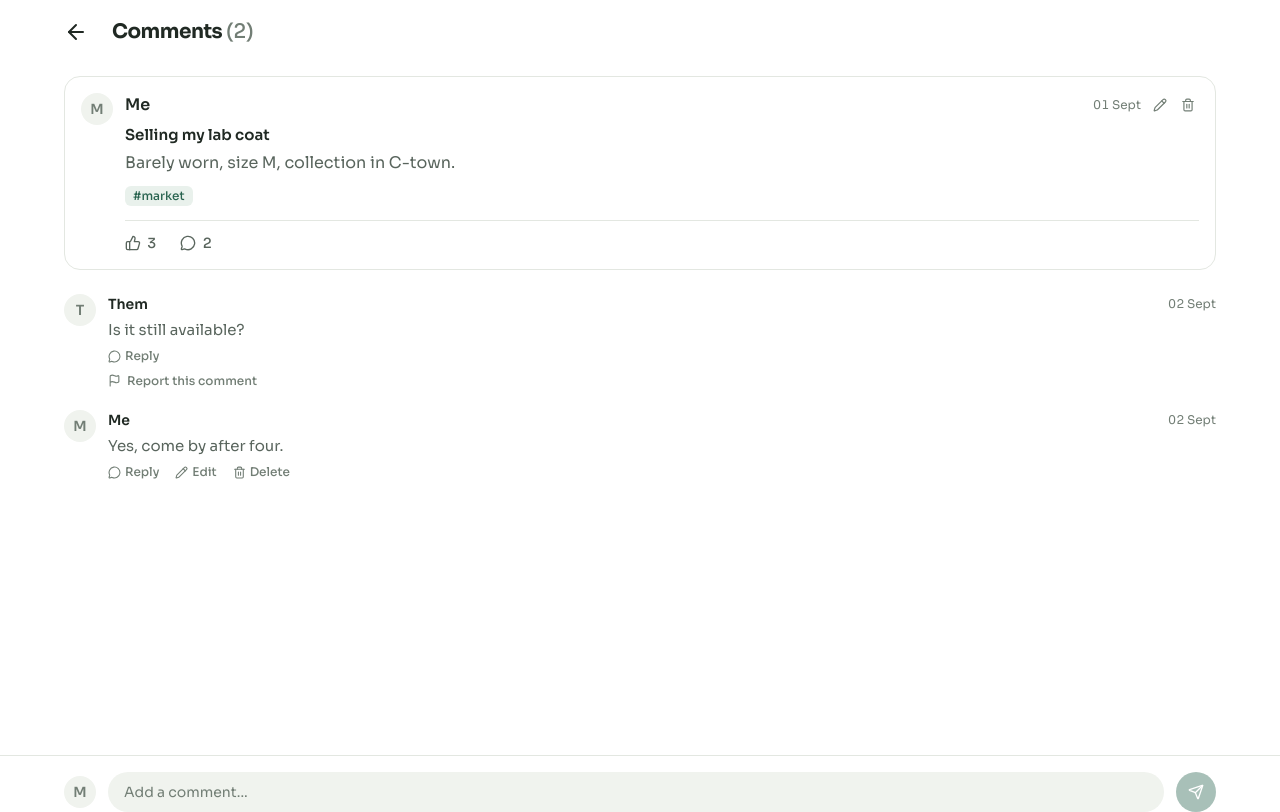
Test: PostComments › saves an edited comment and refetches the thread
The width and height of the screenshot is (1280, 812).
Click the button with aria-label "Edit your comment" at (196, 472), box [175,464,217,480]
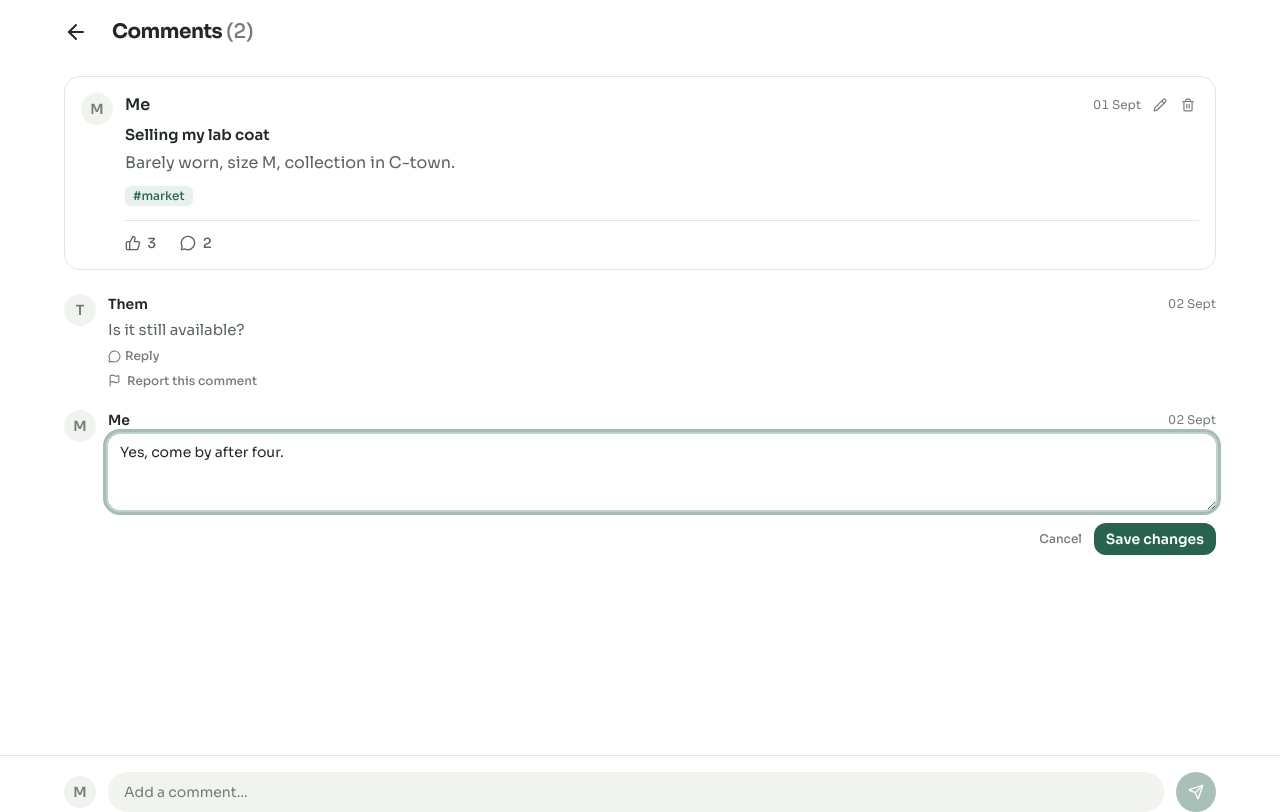
Replace the text in the text box named "Edit your comment" with "Yes, come by after four, or tomorrow." at (662, 472), box [108,434,1216,510]
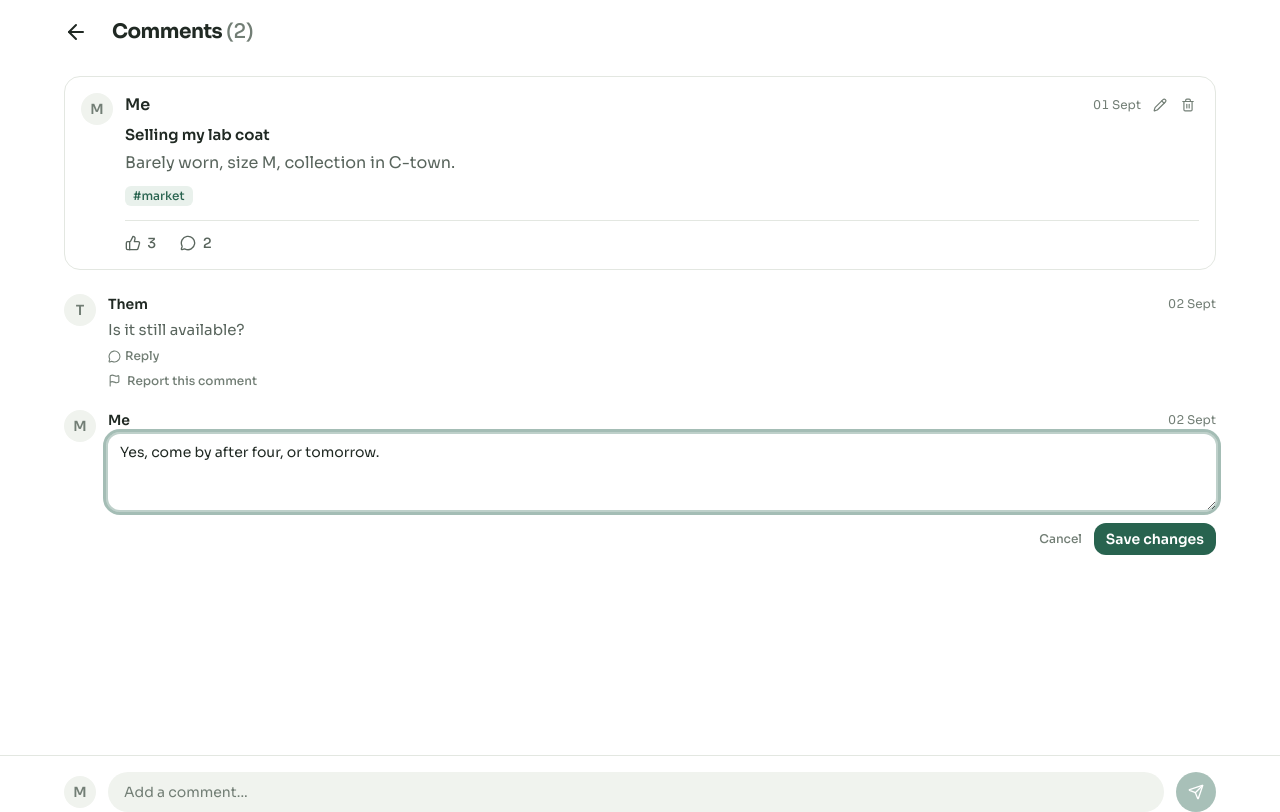
Click the button "Save changes" at (1155, 539), box [1094,523,1216,555]
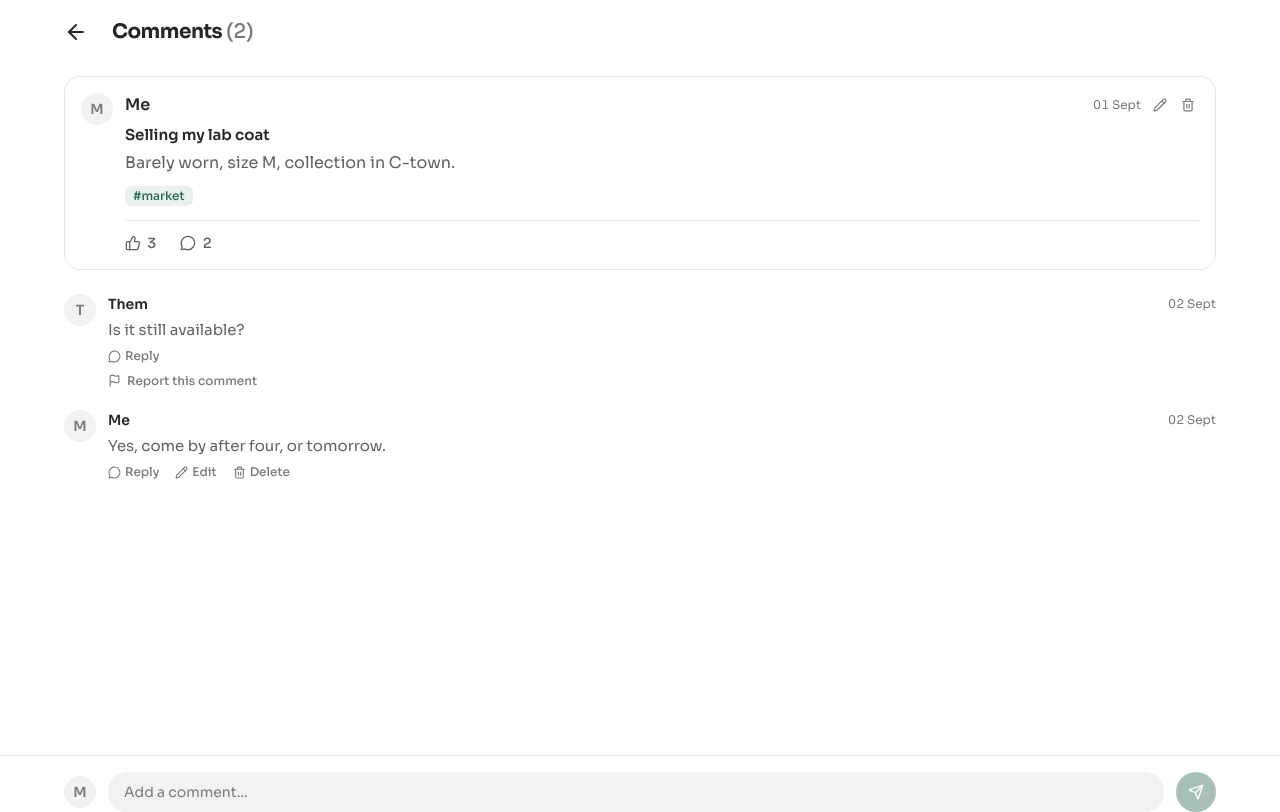
Check: the field labelled "Edit your comment" is not shown
Check: the text "Yes, come by after four, or tomorrow." is shown, box [108,436,386,455]
